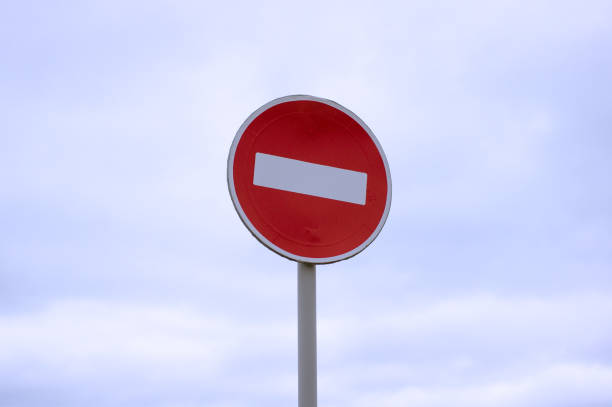Girilmez: (223, 92, 393, 271)
